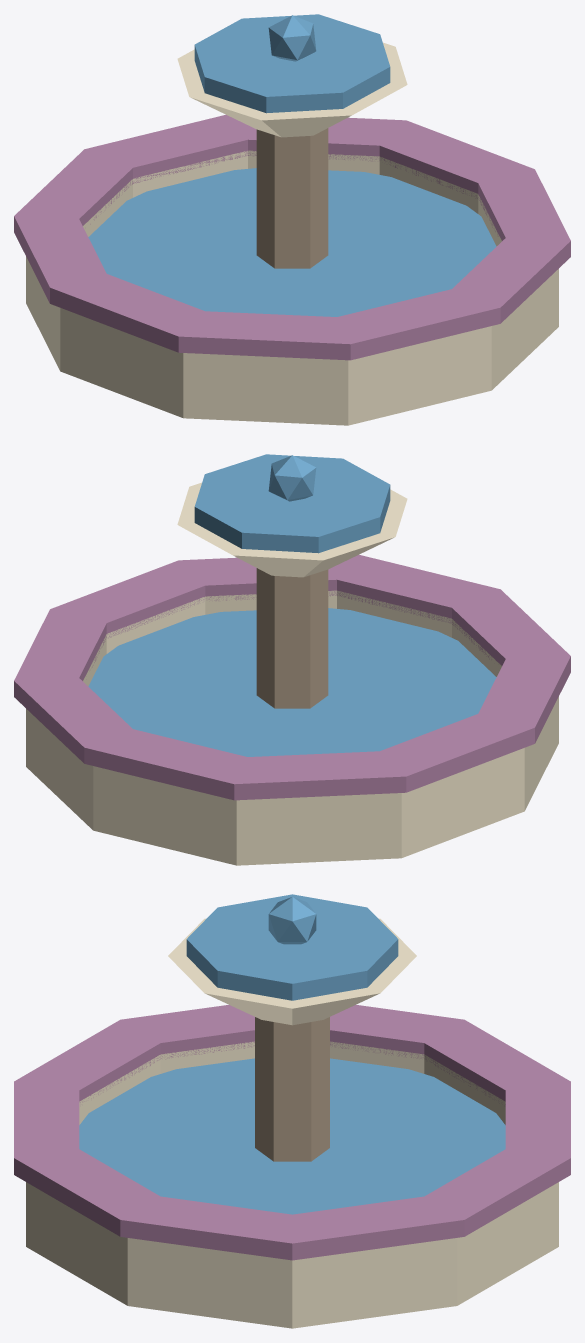
The model's file is fountain.glb.
The picture shows the model from 3 angles, top to bottom: view 1: azimuth 30°, elevation 25°; view 2: azimuth 150°, elevation 25°; view 3: azimuth 270°, elevation 25°; orthographic projection. The views are drawn at different scales.
Parts seen in each view (by area): view 1: city-fountain; view 2: city-fountain; view 3: city-fountain.
Part boxes in pixels (x1,y1,x2,y2): city-fountain: (14, 14, 570, 425); city-fountain: (14, 454, 570, 865); city-fountain: (14, 894, 570, 1328).
Size of the model in its own units: 0.94 by 0.555 by 0.894.
